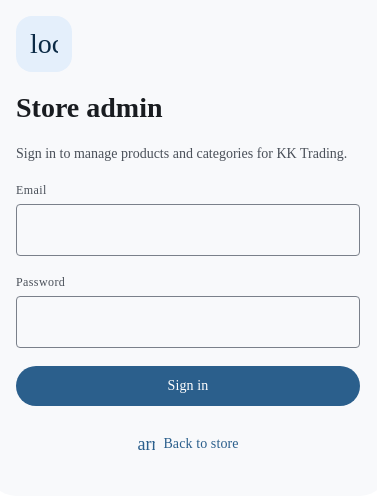
Test: SignInForm › shows the error, keeps the email and clears the password
The width and height of the screenshot is (377, 503).
In the field labelled "Email": (188, 230) [16,204,360,256], type "admin"
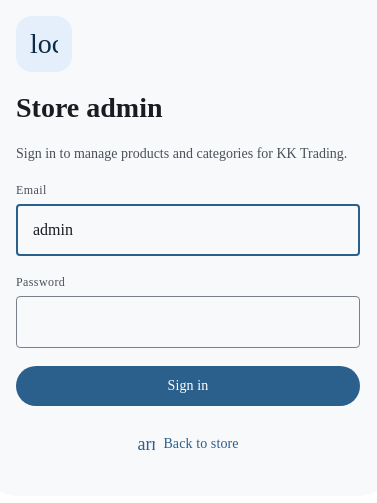
In the password field labelled "Password": (188, 322) [16,296,360,348], type "wrong"
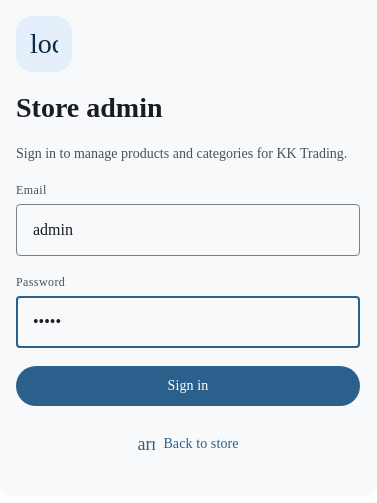
Click the button "Sign in": click(188, 386) [16,366,360,406]
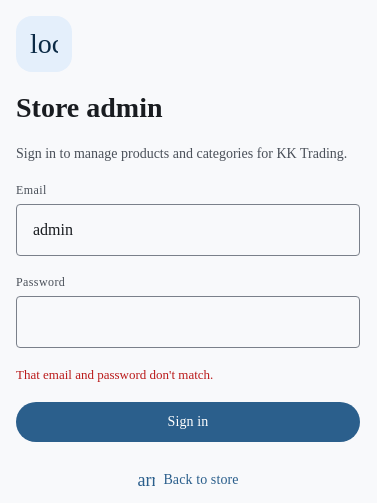
Expected: the field labelled "Email" holds "admin", [16,204,360,256]
Expected: the message reads "That email and password don't match.", [16,367,213,382]
Expected: the password field labelled "Password" is empty, [16,296,360,348]
